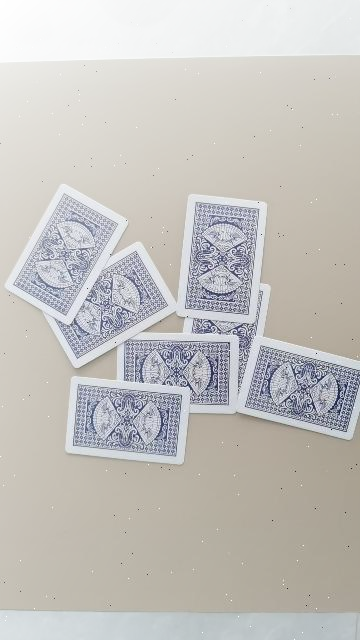card: (5, 184, 128, 324), (45, 242, 176, 368), (236, 336, 360, 440), (176, 195, 268, 324), (65, 376, 191, 465), (118, 332, 239, 414), (182, 284, 271, 391)
